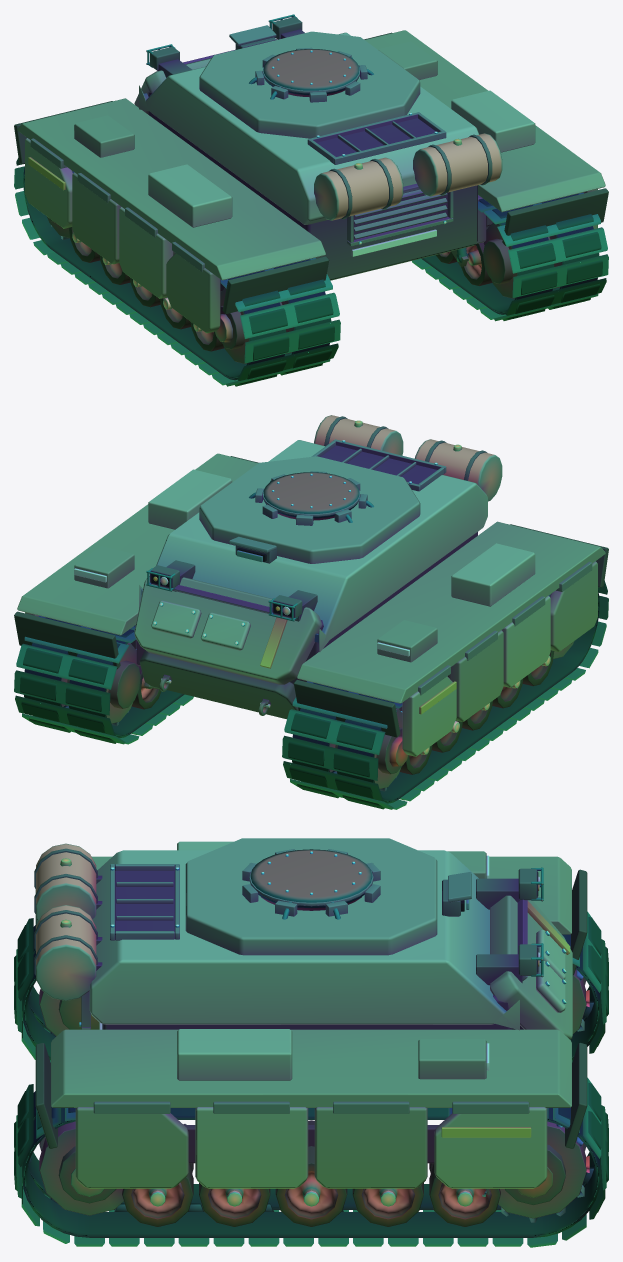
File: legs_tread.glb
The picture shows the model from 3 angles, top to bottom: view 1: azimuth 30°, elevation 25°; view 2: azimuth 150°, elevation 25°; view 3: azimuth 270°, elevation 25°; orthographic projection. The views are drawn at different scales.
Parts seen in each view (by area): view 1: Track_L__armor_sub, Body__armor_sub, Body__dark, Track_L__rubber, Body__armor, Track_R__rubber, Track_R__armor_sub, Track_L__armor, Track_L__gunmetal, Body__gunmetal, Track_R__gunmetal, Track_R__armor (+3 smaller); view 2: Body__armor_sub, Track_L__armor_sub, Body__armor, Track_L__rubber, Body__dark, Track_R__armor_sub, Track_L__armor, Track_R__rubber, Track_L__gunmetal, Track_R__gunmetal, Body__gunmetal, Track_R__armor (+3 smaller); view 3: Track_R__armor_sub, Body__armor, Body__armor_sub, Track_R__rubber, Track_R__armor, Track_R__gunmetal, Body__dark, Body__gunmetal, Track_L__rubber, Track_L__armor_sub, Track_L__gunmetal, Track_R__dark (+3 smaller).
Part boxes in pixels (bbox=[...]): Track_L__armor_sub: bbox=[17, 98, 325, 343]; Body__armor_sub: bbox=[134, 31, 502, 220]; Body__dark: bbox=[148, 17, 492, 280]; Track_L__rubber: bbox=[14, 101, 334, 386]; Body__armor: bbox=[139, 32, 479, 224]; Track_R__rubber: bbox=[364, 32, 608, 320]; Track_R__armor_sub: bbox=[365, 30, 605, 278]; Track_L__armor: bbox=[25, 138, 232, 298]; Track_L__gunmetal: bbox=[14, 138, 340, 386]; Body__gunmetal: bbox=[146, 14, 486, 246]; Track_R__gunmetal: bbox=[412, 192, 608, 321]; Track_R__armor: bbox=[451, 90, 535, 152]; Body__armor_sub: bbox=[134, 415, 502, 684]; Track_L__armor_sub: bbox=[297, 521, 605, 766]; Body__armor: bbox=[139, 440, 487, 652]; Track_L__rubber: bbox=[288, 524, 608, 809]; Body__dark: bbox=[139, 416, 487, 719]; Track_R__armor_sub: bbox=[17, 453, 257, 701]; Track_L__armor: bbox=[402, 543, 550, 756]; Track_R__rubber: bbox=[14, 456, 258, 743]; Track_L__gunmetal: bbox=[282, 561, 608, 809]; Track_R__gunmetal: bbox=[14, 616, 193, 744]; Body__gunmetal: bbox=[136, 439, 446, 715]; Track_R__armor: bbox=[25, 469, 232, 616]; Track_R__armor_sub: bbox=[51, 1029, 571, 1218]; Body__armor: bbox=[89, 850, 565, 1030]; Body__armor_sub: bbox=[36, 838, 572, 1039]; Track_R__rubber: bbox=[14, 1043, 608, 1237]; Track_R__armor: bbox=[177, 1029, 547, 1188]; Track_R__gunmetal: bbox=[16, 1077, 606, 1247]; Body__dark: bbox=[34, 848, 537, 1029]; Body__gunmetal: bbox=[81, 849, 543, 1029]; Track_L__rubber: bbox=[14, 869, 608, 1060]; Track_L__armor_sub: bbox=[92, 851, 571, 934]; Track_L__gunmetal: bbox=[16, 911, 606, 1062]; Track_R__dark: bbox=[58, 1125, 565, 1205].
Bounding box in the file's own units: 2.7 × 1.37 × 2.79.
